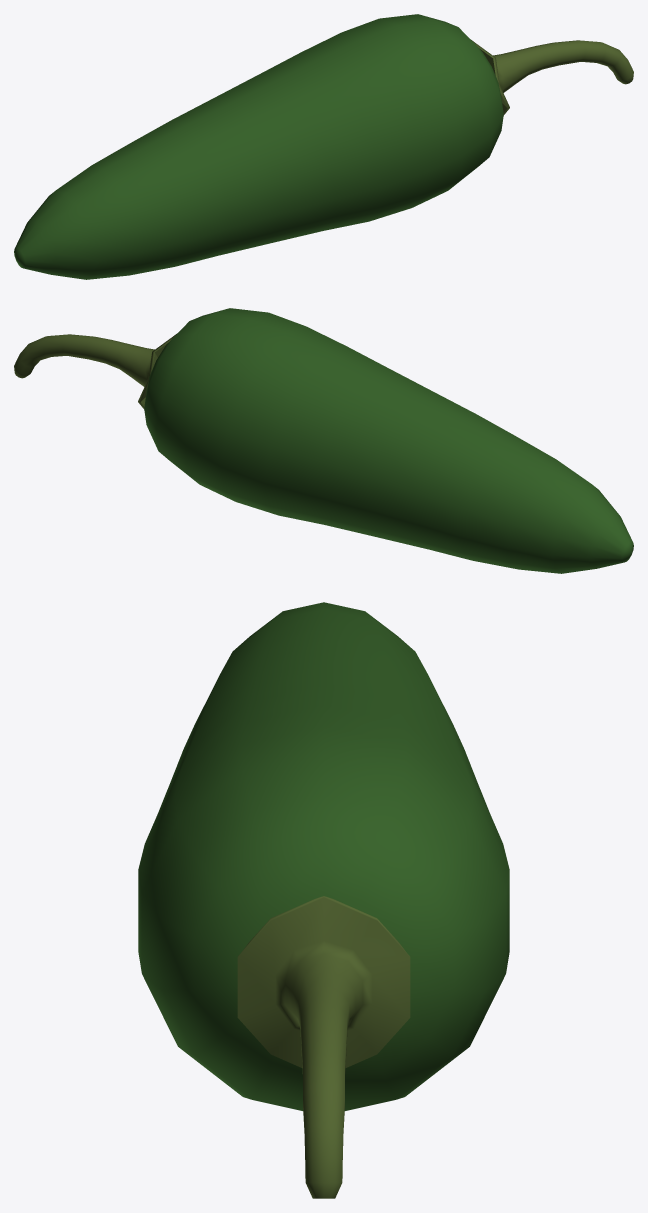
Rendered from jalapeno.fbx.
3 views of the same model, one above another, from view 1: azimuth 30°, elevation 25°; view 2: azimuth 150°, elevation 25°; view 3: azimuth 270°, elevation 25° (orthographic). The views are drawn at different scales.
Visible parts, largest first — view 1: jalapeno; view 2: jalapeno; view 3: jalapeno.
Boxes of the visible parts, x1,y1,x2,y2 form: jalapeno: [14, 14, 633, 279]; jalapeno: [14, 308, 633, 573]; jalapeno: [138, 602, 509, 1198].
Bounding box in the file's own units: 0.7113 × 0.1972 × 0.1855.
Materials: 1 (1 with a texture image).
